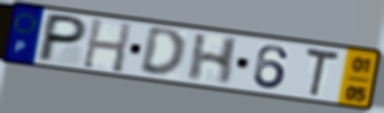6: (253, 43, 290, 90)
D: (137, 27, 188, 80)
H: (79, 16, 134, 75), (184, 32, 242, 87)
P: (33, 11, 91, 64)
T: (302, 45, 341, 100)
